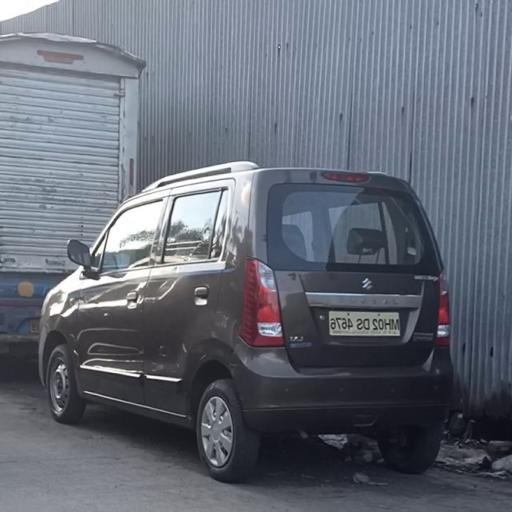License: (326, 308, 404, 337)
